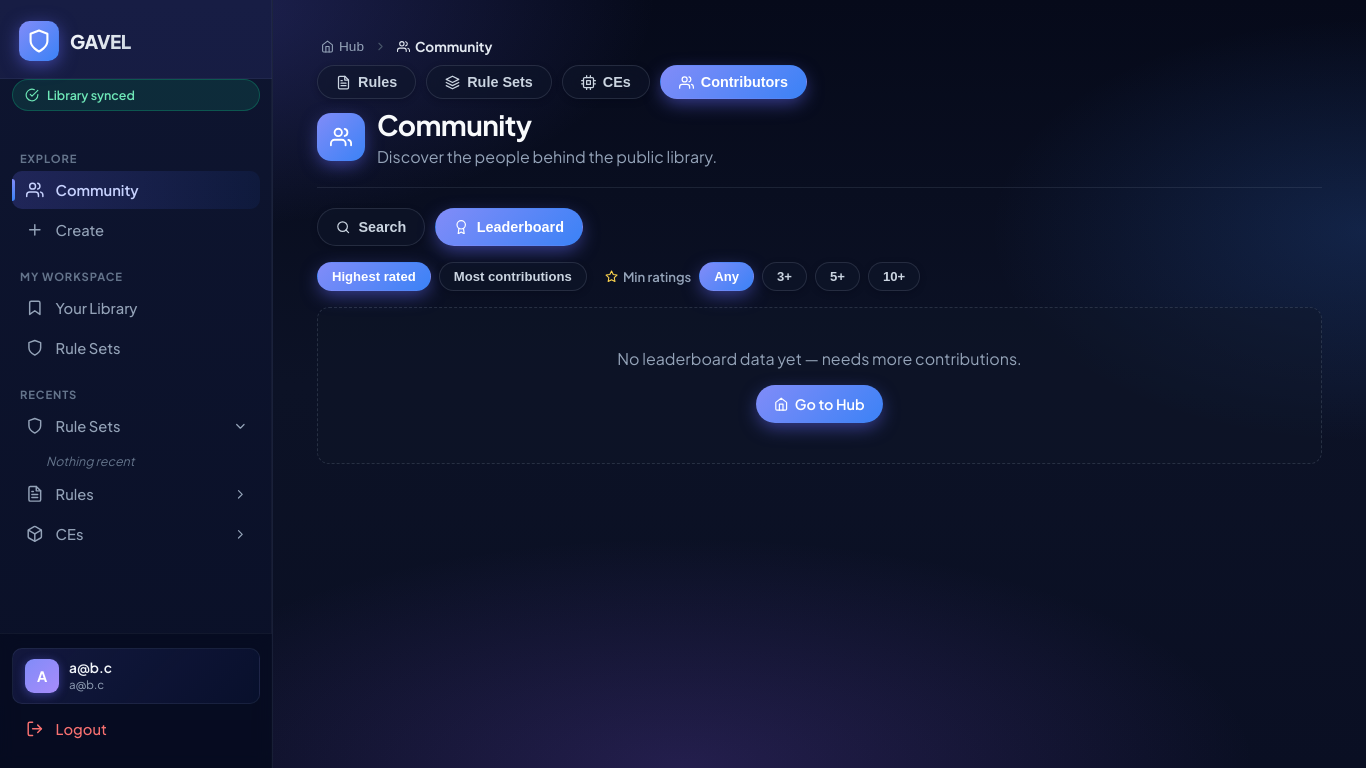
Test: Community — leaderboard mode › switching back to search from leaderboard restores the input
This screenshot has width=1366, height=768.
expect the button "Highest rated" is shown: met, box [317,262,431,291]
Click the button "Search": coordinates (371, 227) [317,208,425,246]
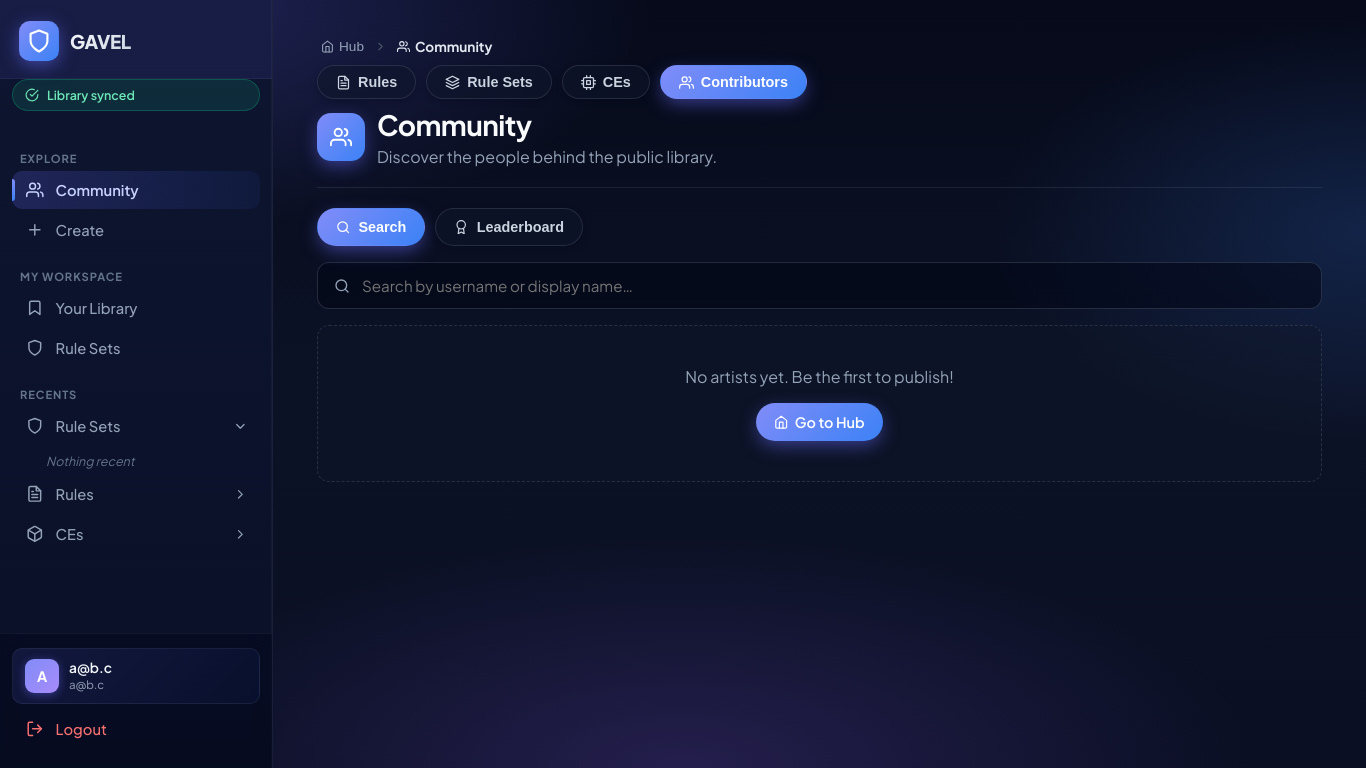
expect the field with placeholder "Search by username or display name…" is shown: met, box [360,275,1305,296]
